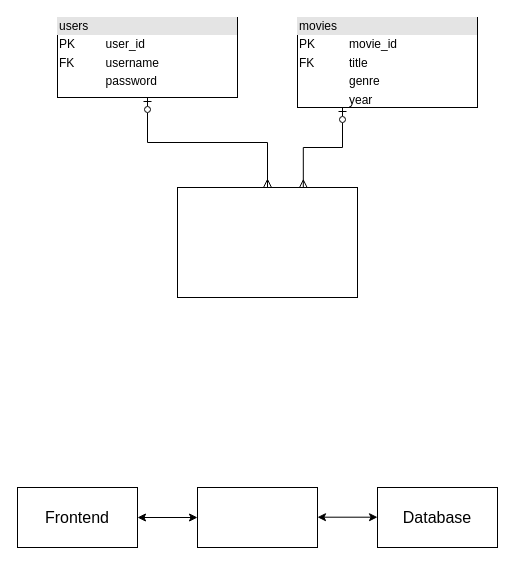
Image size: 515x565. Some labels were removed from this diagram. The shapes that lost their labels are listed below. From the top down, each one's centre as x and y in pixels, then its label:
At (267,242): "ratings PK id FK user_id FK movie_id rating".
At (257,517): "REST API".
